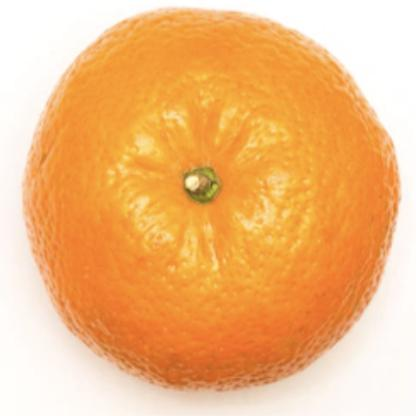fresh: (22, 10, 399, 396)
